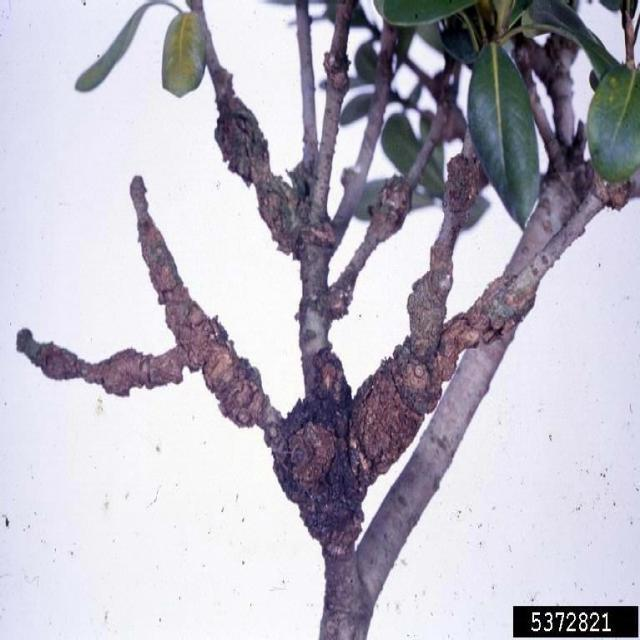Tuberculosis: (266, 150, 534, 622), (210, 59, 313, 252), (168, 281, 268, 424), (18, 328, 184, 396), (365, 175, 413, 248), (320, 271, 358, 325)
